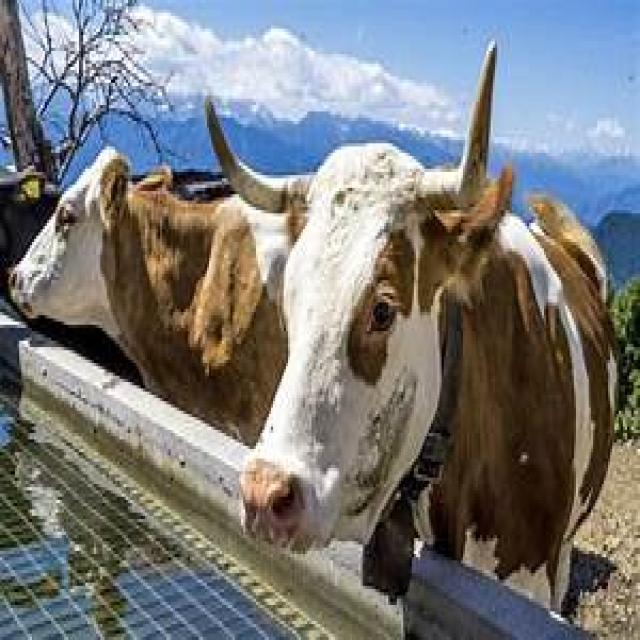cow: (209, 43, 612, 607), (10, 149, 305, 443)
